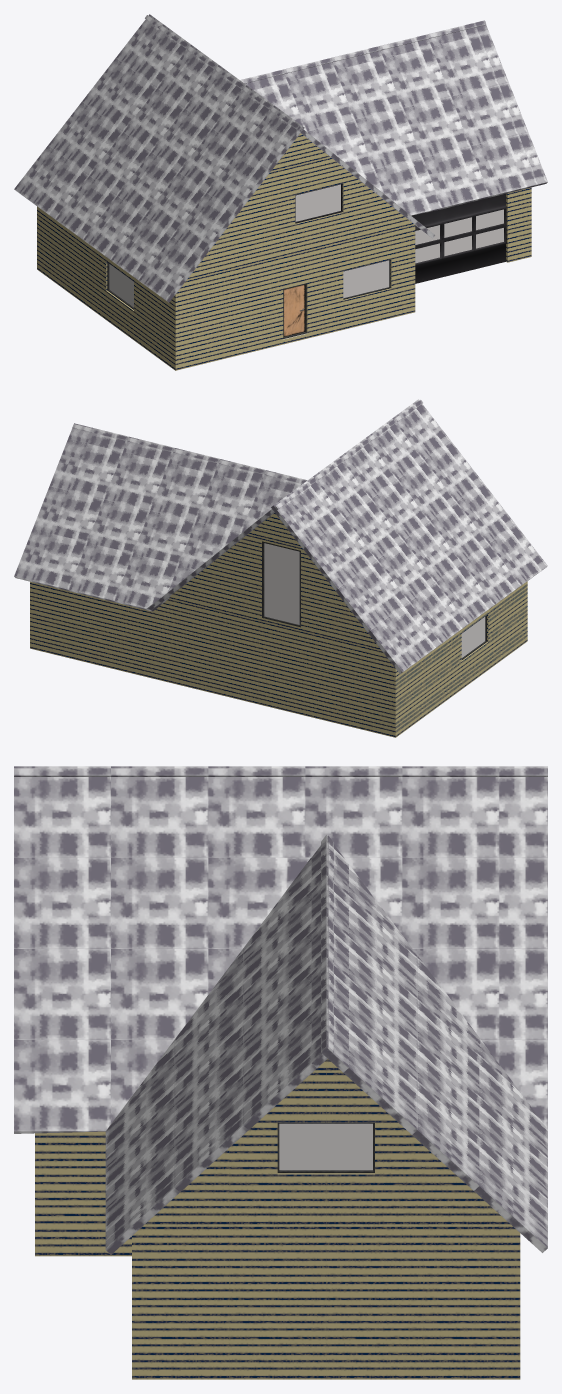
File: House3.fbx
3 views of the same model, one above another, from view 1: azimuth 30°, elevation 25°; view 2: azimuth 150°, elevation 25°; view 3: azimuth 270°, elevation 25° (orthographic). The views are drawn at different scales.
Visible parts, largest first — view 1: House3; view 2: House3; view 3: House3.
Part boxes in pixels (x1=…): House3: x1=14, y1=14, x2=547, y2=370; House3: x1=14, y1=399, x2=547, y2=737; House3: x1=14, y1=766, x2=547, y2=1379.
Bounding box in the file's own units: 17 × 8.77 × 11.
